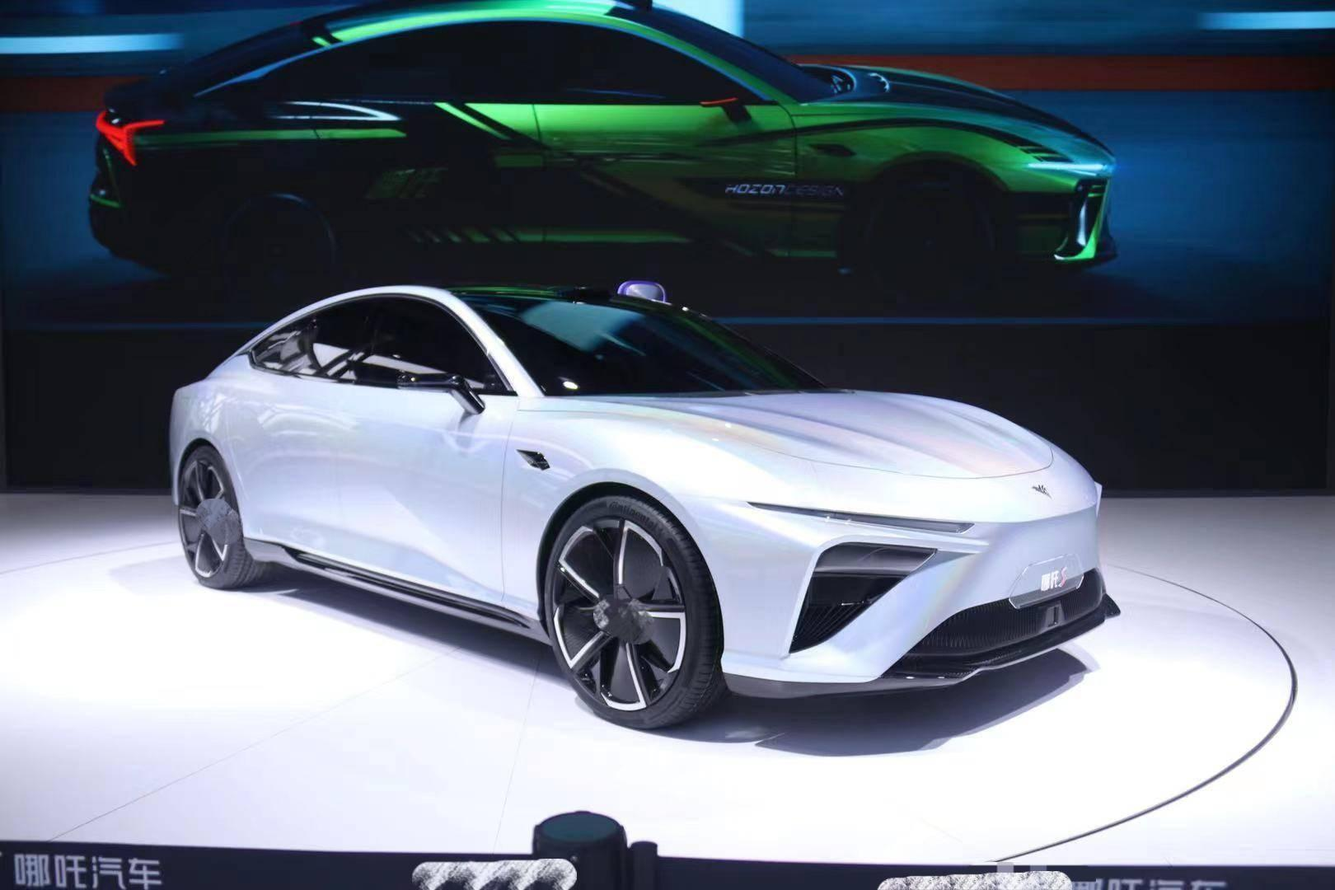NETA: (1031, 483, 1054, 499)
